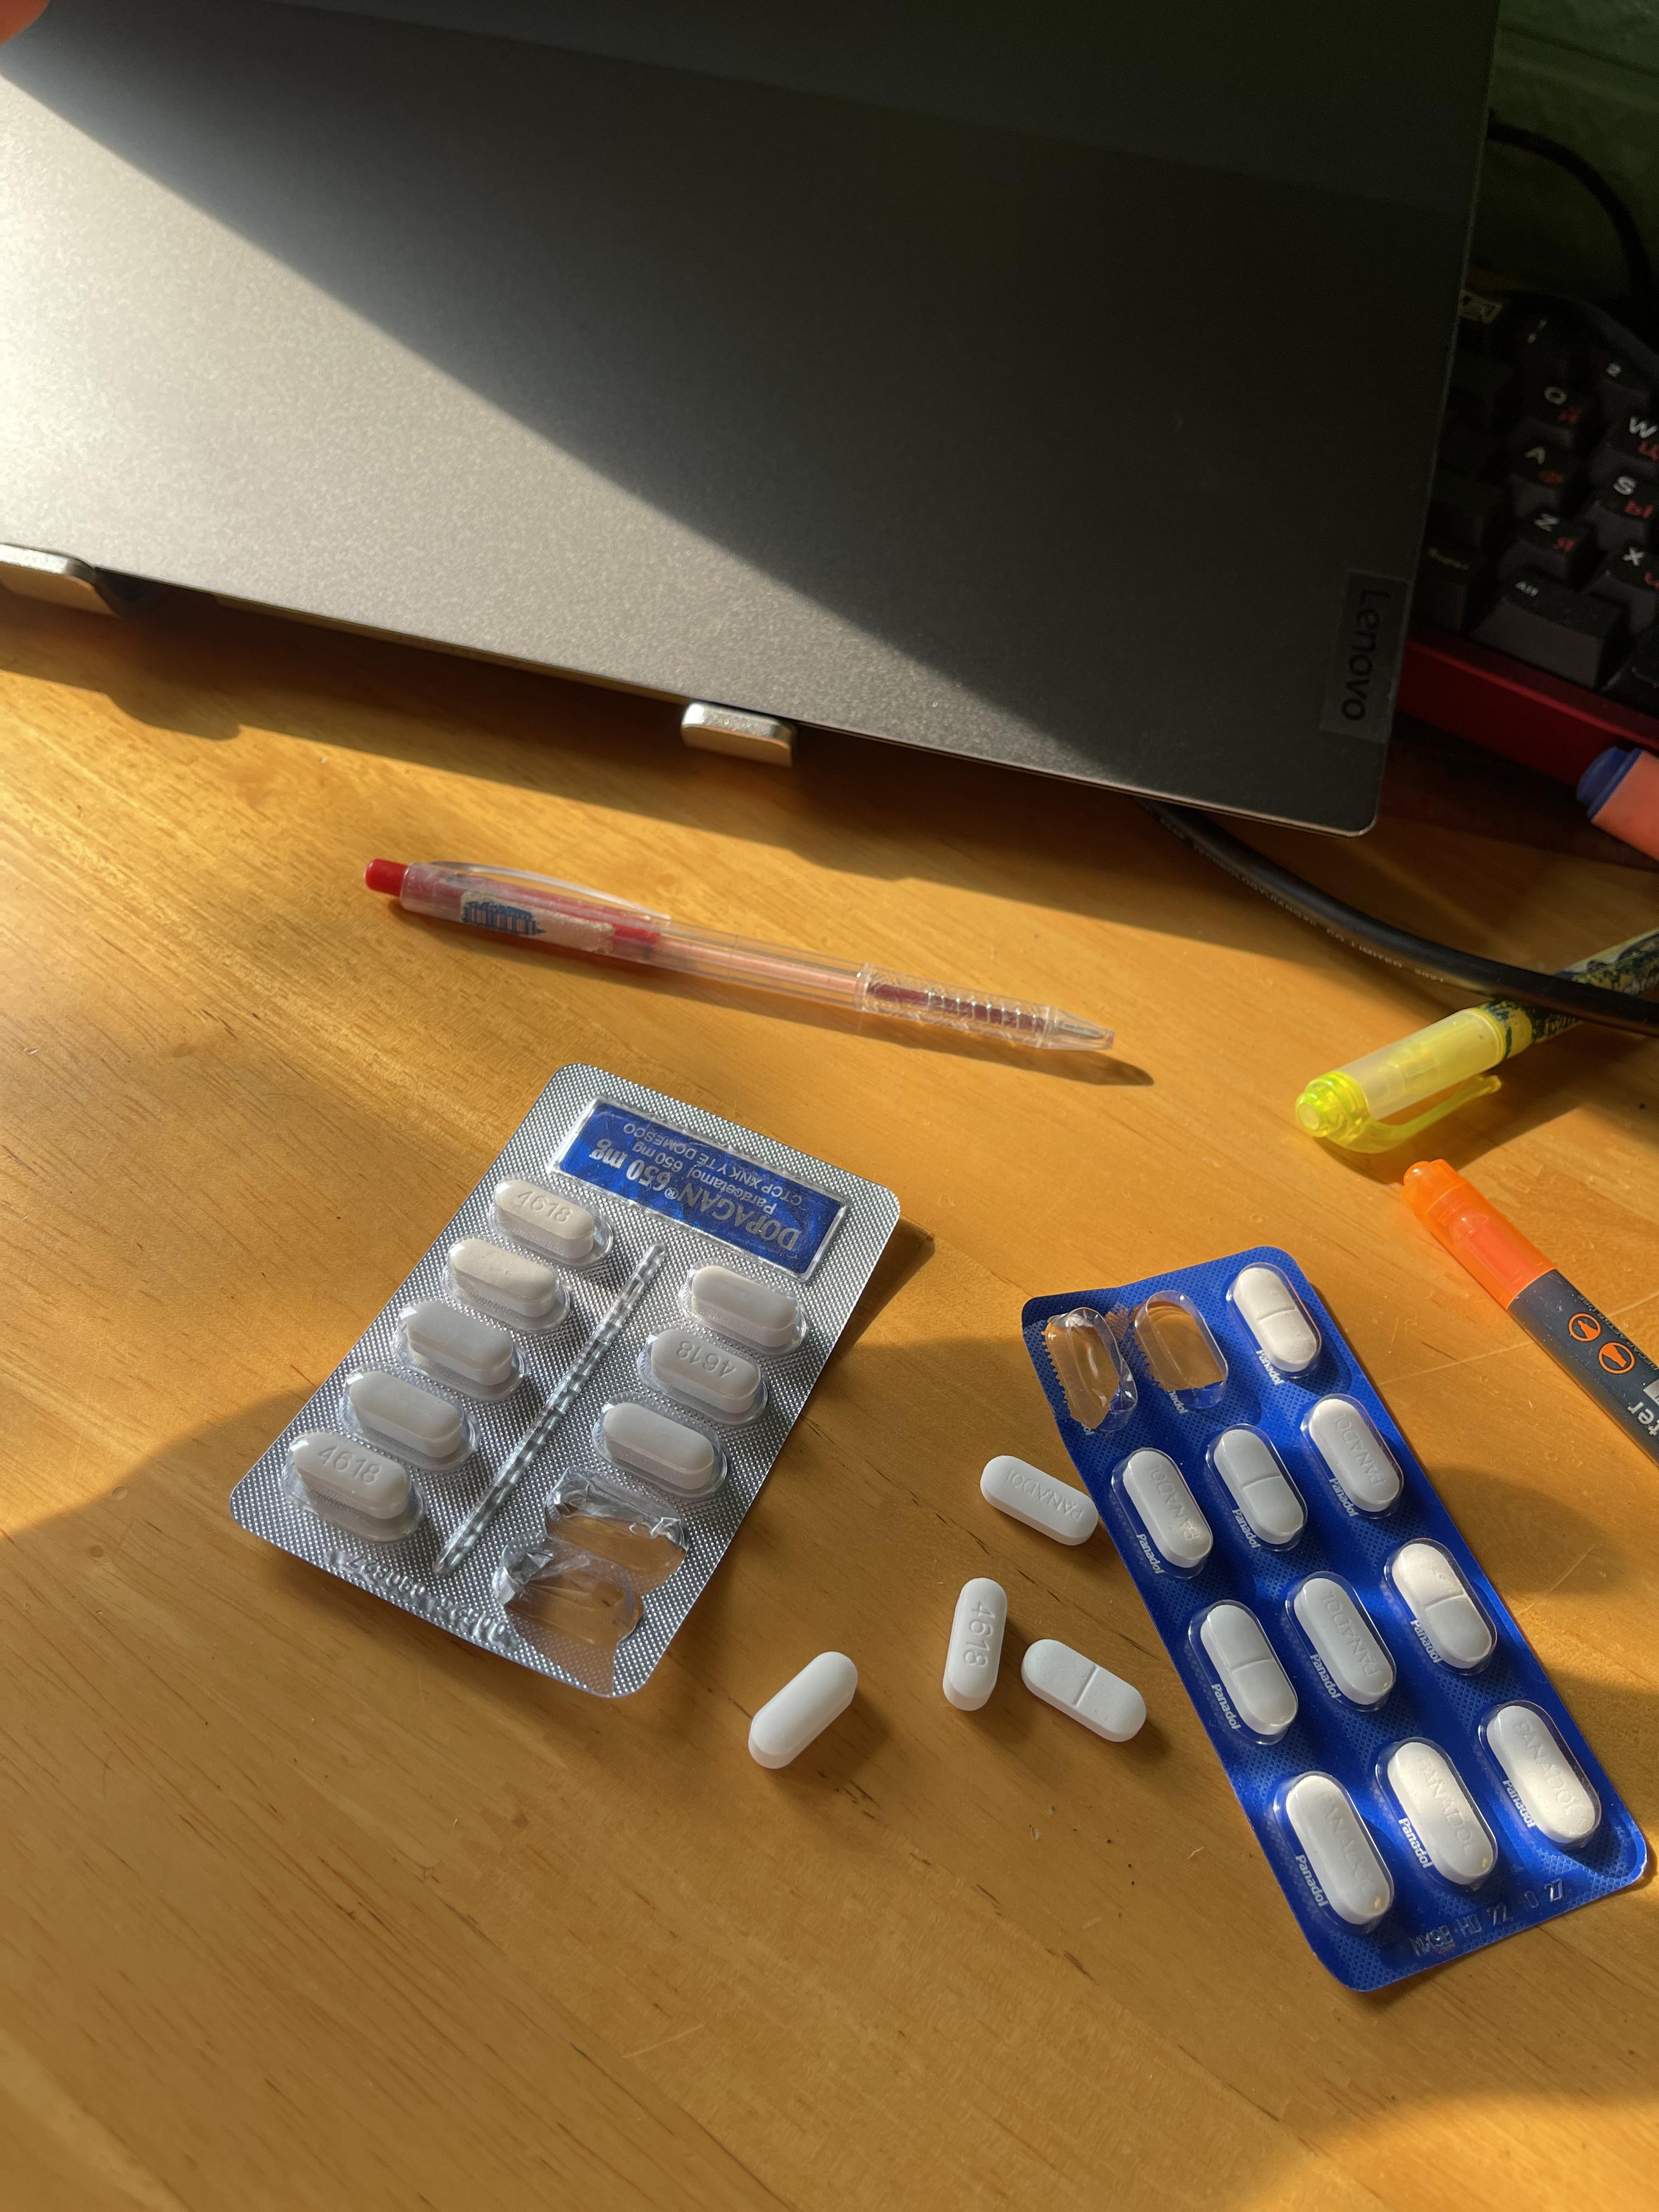Paracetamol_350mg: (1270, 1766, 1403, 1932), (1474, 1695, 1607, 1850), (1382, 1738, 1495, 1892), (1284, 1569, 1406, 1709), (1204, 1421, 1314, 1550), (1018, 1634, 1147, 1743), (1387, 1541, 1493, 1674), (1195, 1602, 1286, 1743), (1225, 1259, 1328, 1379), (1307, 1397, 1406, 1515), (979, 1451, 1100, 1548), (1121, 1447, 1208, 1571)
Paracetamol_500mg: (289, 1432, 423, 1550), (746, 1648, 863, 1773), (594, 1397, 728, 1505), (397, 1298, 525, 1402), (349, 1371, 476, 1468), (685, 1261, 809, 1357), (647, 1325, 770, 1420), (493, 1177, 610, 1270), (448, 1240, 566, 1327), (945, 1580, 1012, 1714)
